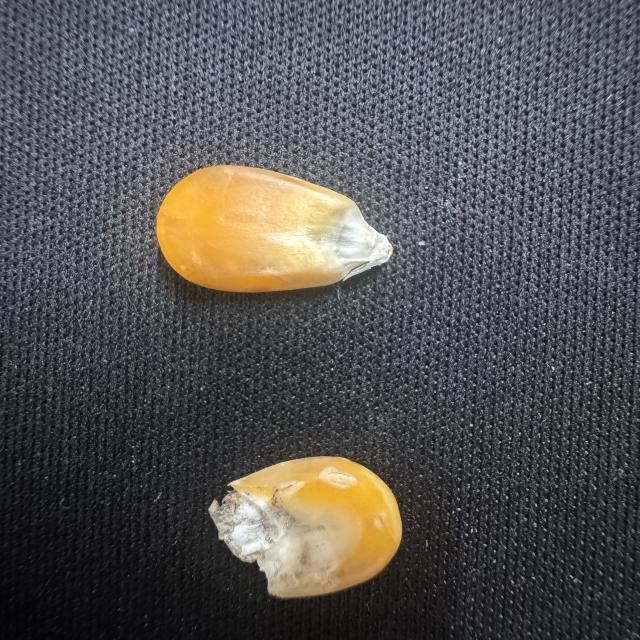Bad-Seed: (195, 446, 413, 608)
Good-Seed: (144, 154, 406, 295)
